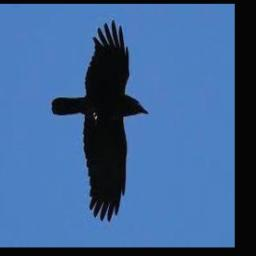Crow: (52, 20, 148, 222)
